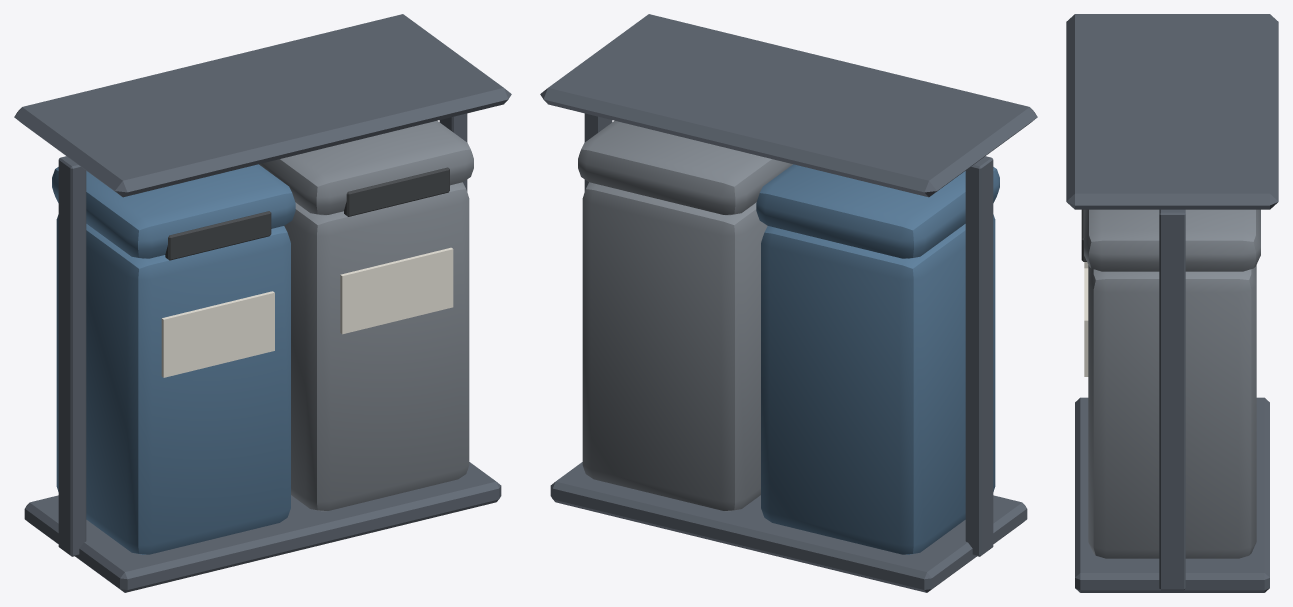
File: bin_public.glb
3 renders of one model, left to right at view 1: azimuth 30°, elevation 25°; view 2: azimuth 150°, elevation 25°; view 3: azimuth 270°, elevation 25°, orthographic. The views are drawn at different scales.
Parts seen in each view (by area): view 1: bin_public; view 2: bin_public; view 3: bin_public.
Part boxes in pixels (bbox=[...]): bin_public: bbox=[14, 14, 511, 592]; bin_public: bbox=[540, 14, 1037, 592]; bin_public: bbox=[1066, 14, 1278, 592].
Bounding box in the file's own units: 1 × 1 × 0.48.
